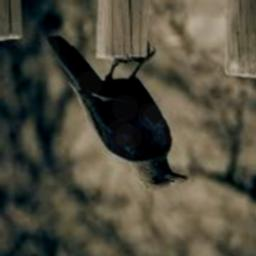Crow: (44, 36, 187, 191)
